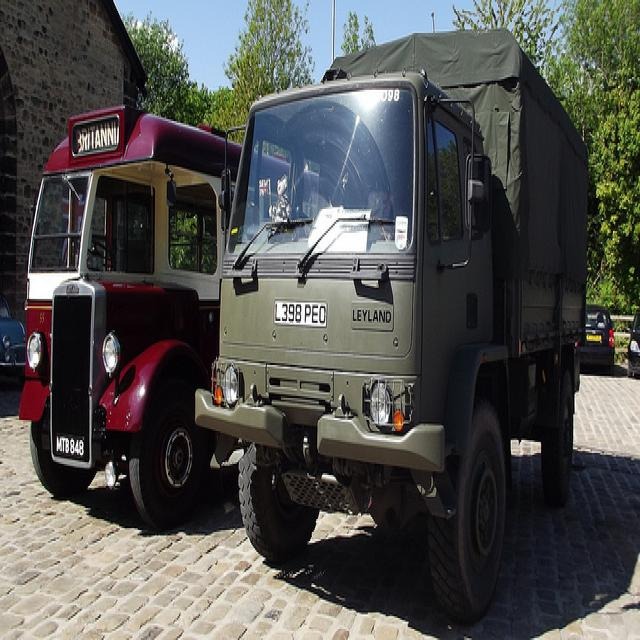Vehicle: (194, 29, 590, 626), (17, 100, 243, 532), (0, 292, 26, 389), (583, 305, 615, 372), (627, 312, 640, 378)
